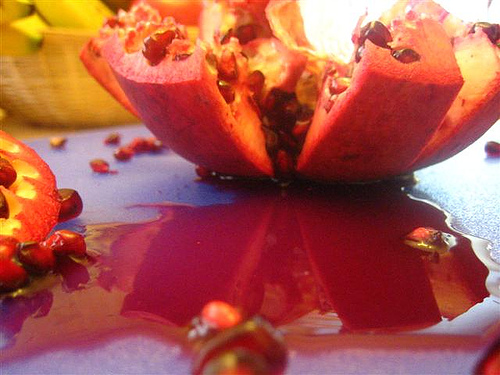pomogranate: (78, 1, 499, 185)
